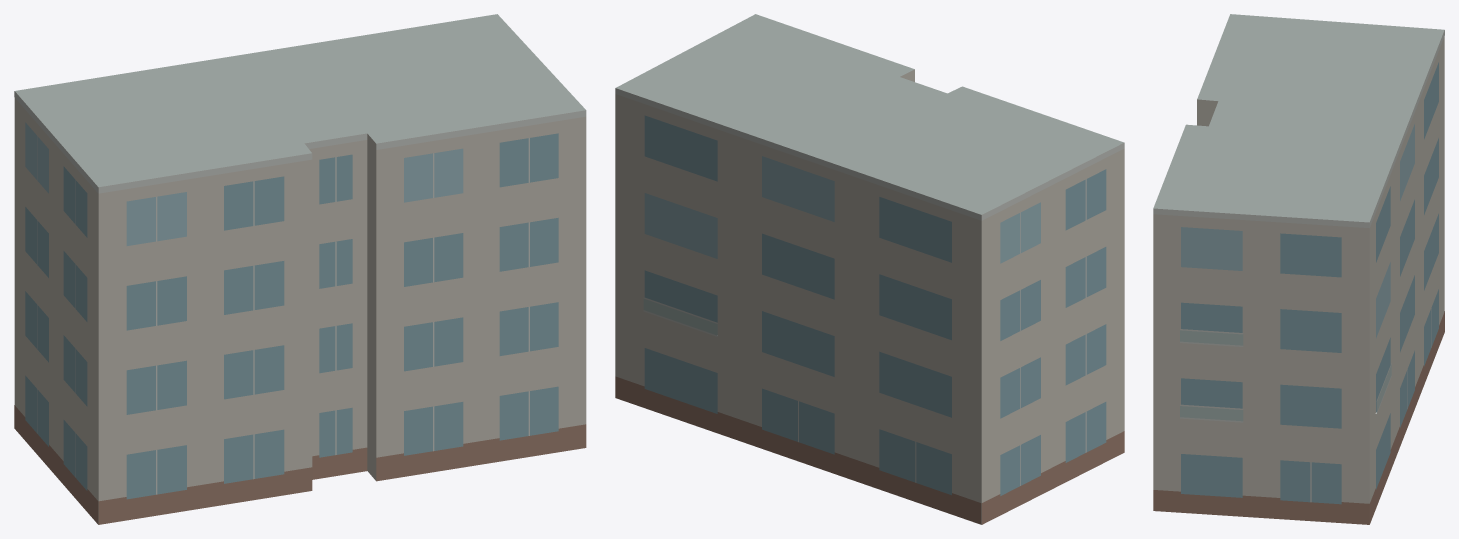
The model's file is survey-upis-32630194.glb.
3 renders of one model, left to right at view 1: azimuth 30°, elevation 25°; view 2: azimuth 150°, elevation 25°; view 3: azimuth 270°, elevation 25°, orthographic. The views are drawn at different scales.
Visible parts, largest first — view 1: survey-upis-32630194.tmp; view 2: survey-upis-32630194.tmp; view 3: survey-upis-32630194.tmp.
Boxes of the visible parts, left/top/right/bottom form: survey-upis-32630194.tmp: left=14, top=14, right=586, bottom=524; survey-upis-32630194.tmp: left=615, top=14, right=1124, bottom=524; survey-upis-32630194.tmp: left=1153, top=14, right=1444, bottom=524.
Size of the model in its own units: 19.08 by 12.9 by 11.28.
